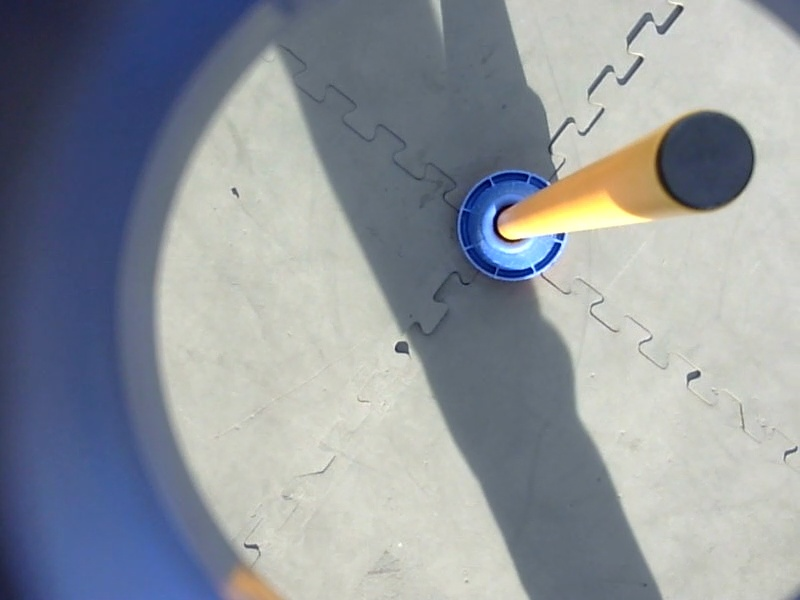tip: (648, 103, 765, 221)
